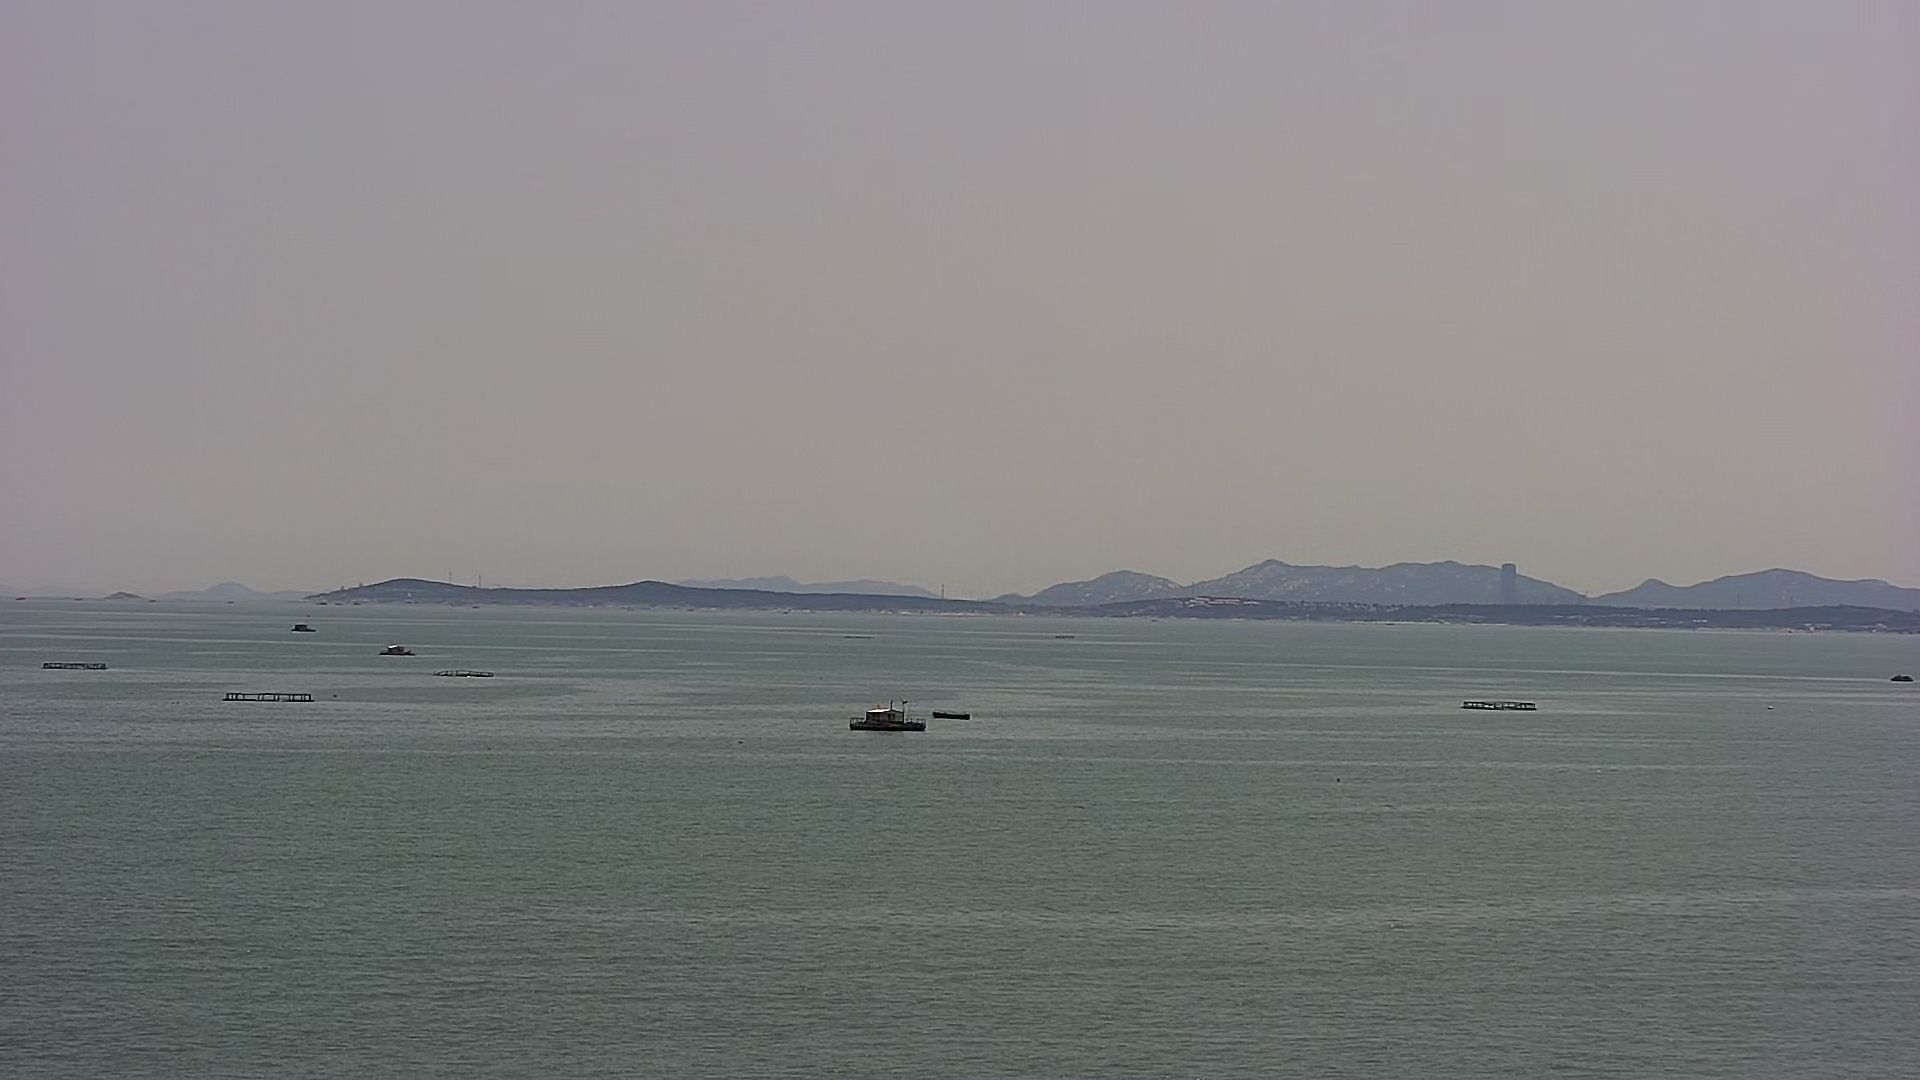platform: (843, 704, 928, 732), (220, 687, 320, 707), (1461, 694, 1538, 717), (37, 658, 105, 674), (443, 663, 500, 678)
